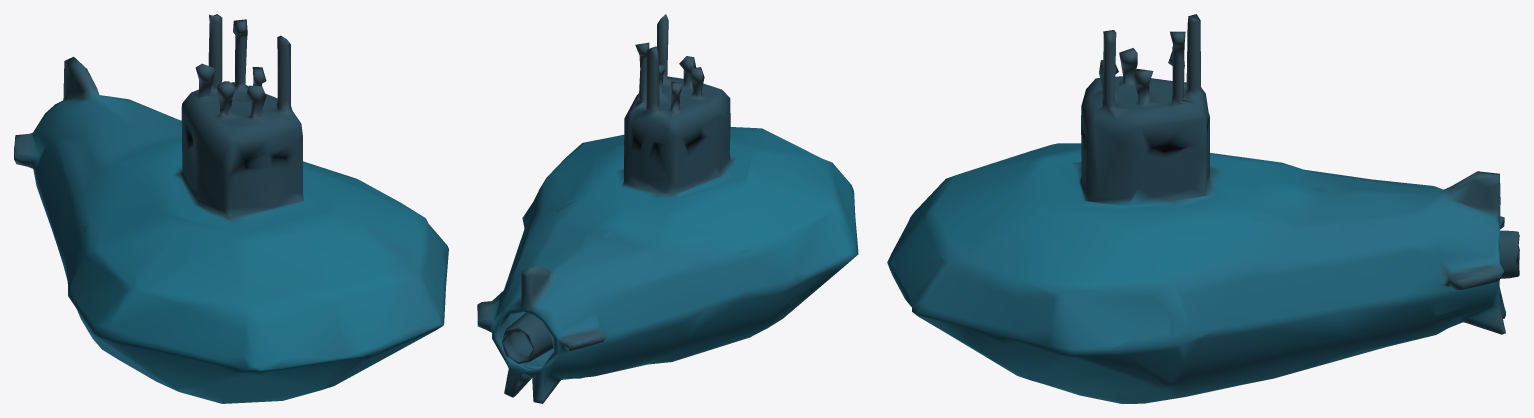
The model's file is gen3d-submarine-lod0.glb.
3 renders of one model, left to right at view 1: azimuth 30°, elevation 25°; view 2: azimuth 150°, elevation 25°; view 3: azimuth 270°, elevation 25°, orthographic. The views are drawn at different scales.
Visible parts, largest first — view 1: part_0; view 2: part_0; view 3: part_0.
Boxes of the visible parts, x1=… form: part_0: x1=14, y1=14, x2=448, y2=403; part_0: x1=477, y1=14, x2=858, y2=403; part_0: x1=887, y1=14, x2=1519, y2=403.
Size of the model in its own units: 1.05 by 0.9963 by 1.55.
